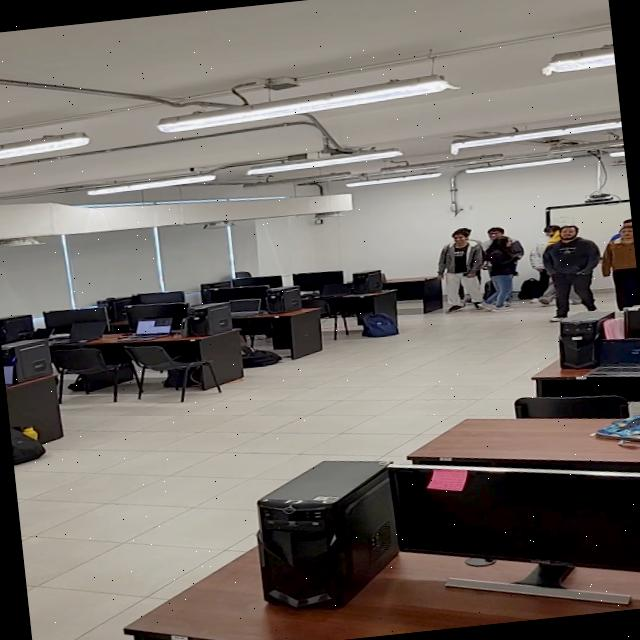Persona: (538, 222, 608, 324), (430, 227, 490, 314), (469, 234, 524, 316), (596, 225, 640, 312)
